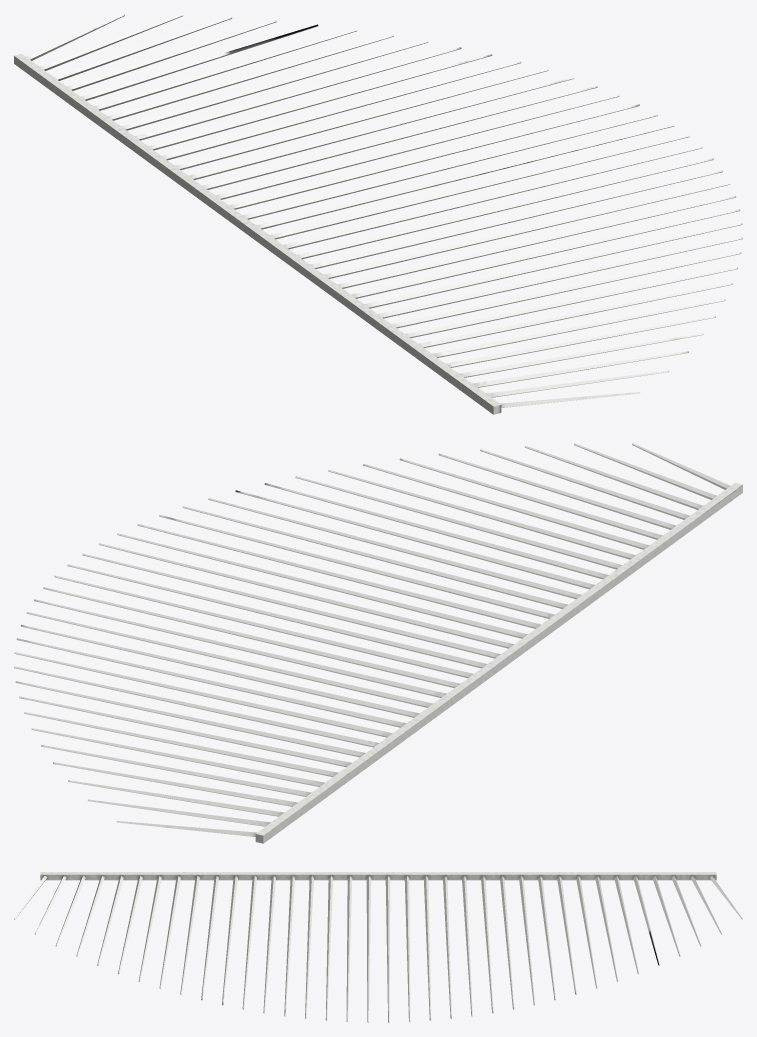
File: ala_museo.glb
3 views of the same model, one above another, from view 1: azimuth 30°, elevation 25°; view 2: azimuth 150°, elevation 25°; view 3: azimuth 270°, elevation 25° (orthographic). The views are drawn at different scales.
Parts seen in each view (by area): view 1: ala_museo; view 2: ala_museo; view 3: ala_museo.
Boxes of the visible parts, <box> form: ala_museo: <box>14,14,742,414</box>; ala_museo: <box>14,443,742,843</box>; ala_museo: <box>14,872,742,1022</box>.
Bounding box in the file's own units: 32.98 × 0.6 × 68.96.
Materials: 1 (1 with a texture image).
